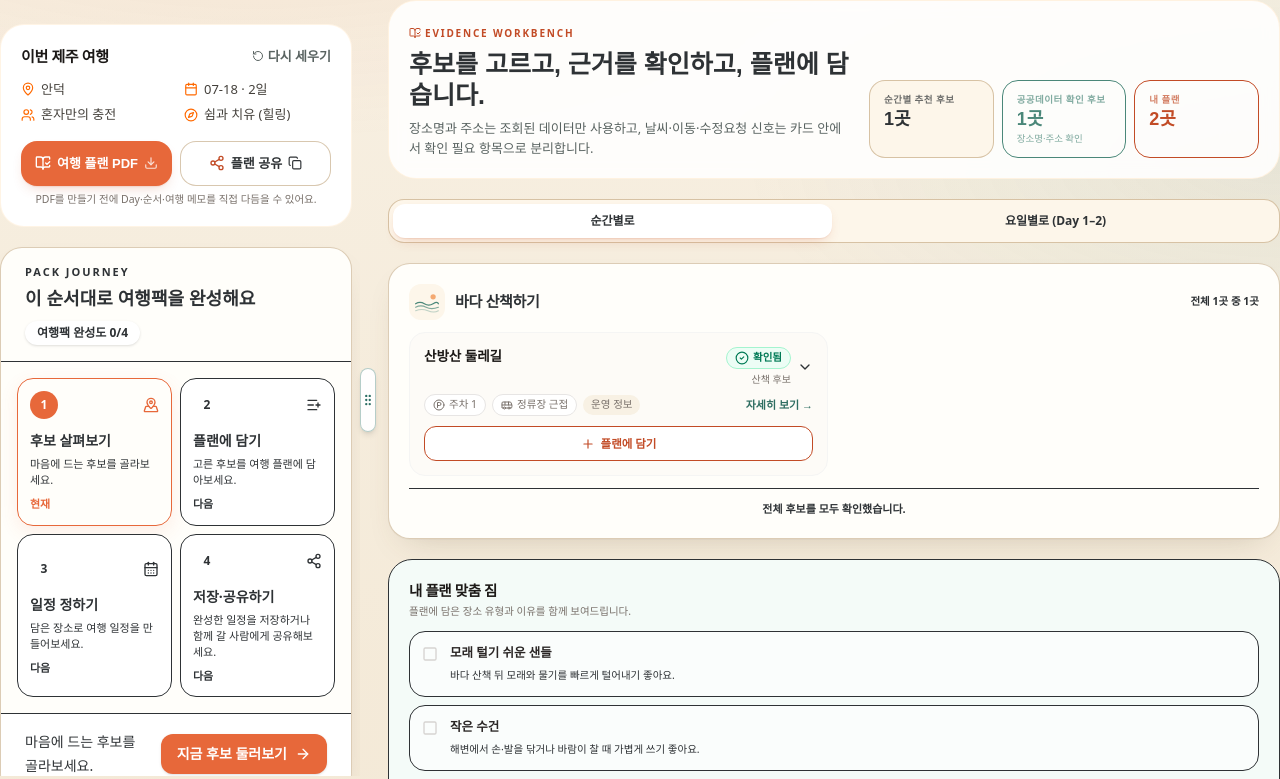
Test case: PackingDashboard pack journey guide › keeps ordinary PDF edits when the editor closes and opens again
The width and height of the screenshot is (1280, 779).
Click the button "여행 플랜 PDF".
click(96, 163)  # box x1=21 y1=140 x2=172 y2=186
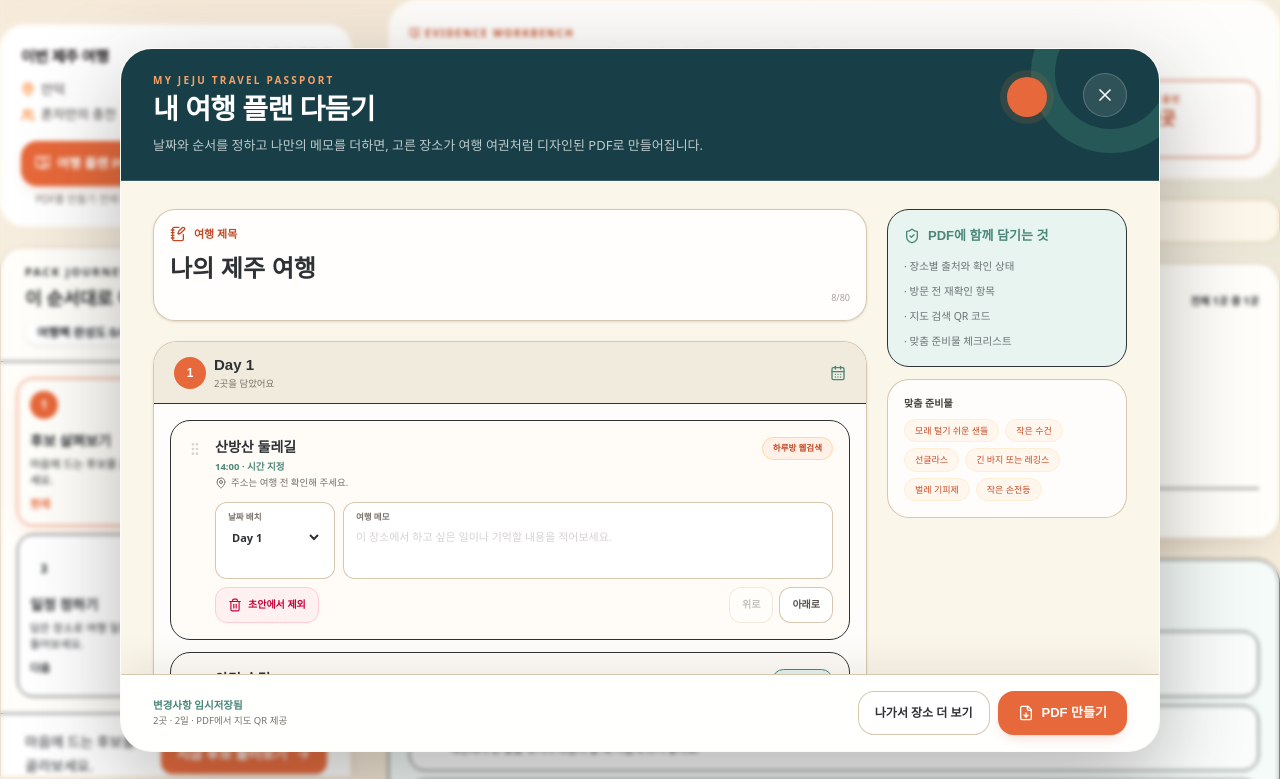
Type "노을 전에 도착" into the text box named "산방산 둘레길 여행 메모".
click(588, 546); type("노을 전에 도착")  # box x1=356 y1=528 x2=820 y2=564
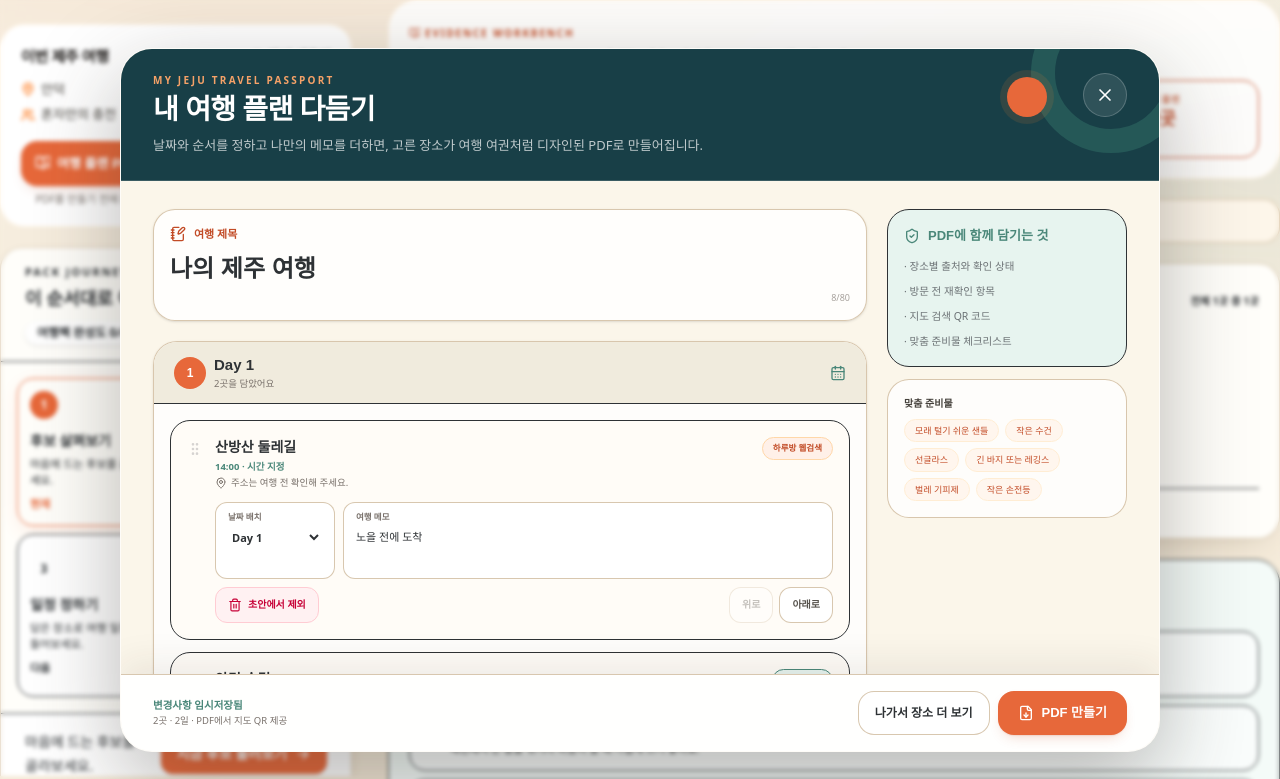
Click the button "나가서 장소 더 보기".
click(924, 713)  # box x1=858 y1=691 x2=990 y2=735
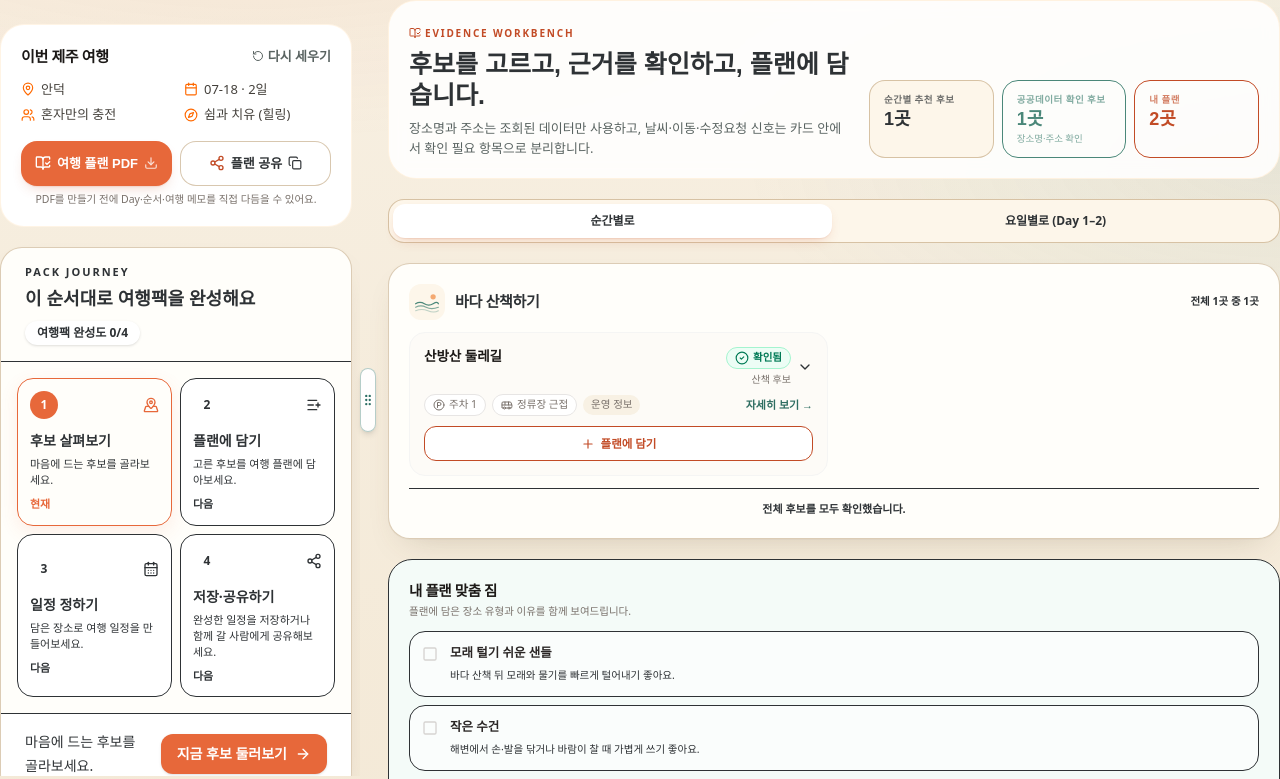
Click the button "여행 플랜 PDF".
click(96, 163)  # box x1=21 y1=140 x2=172 y2=186
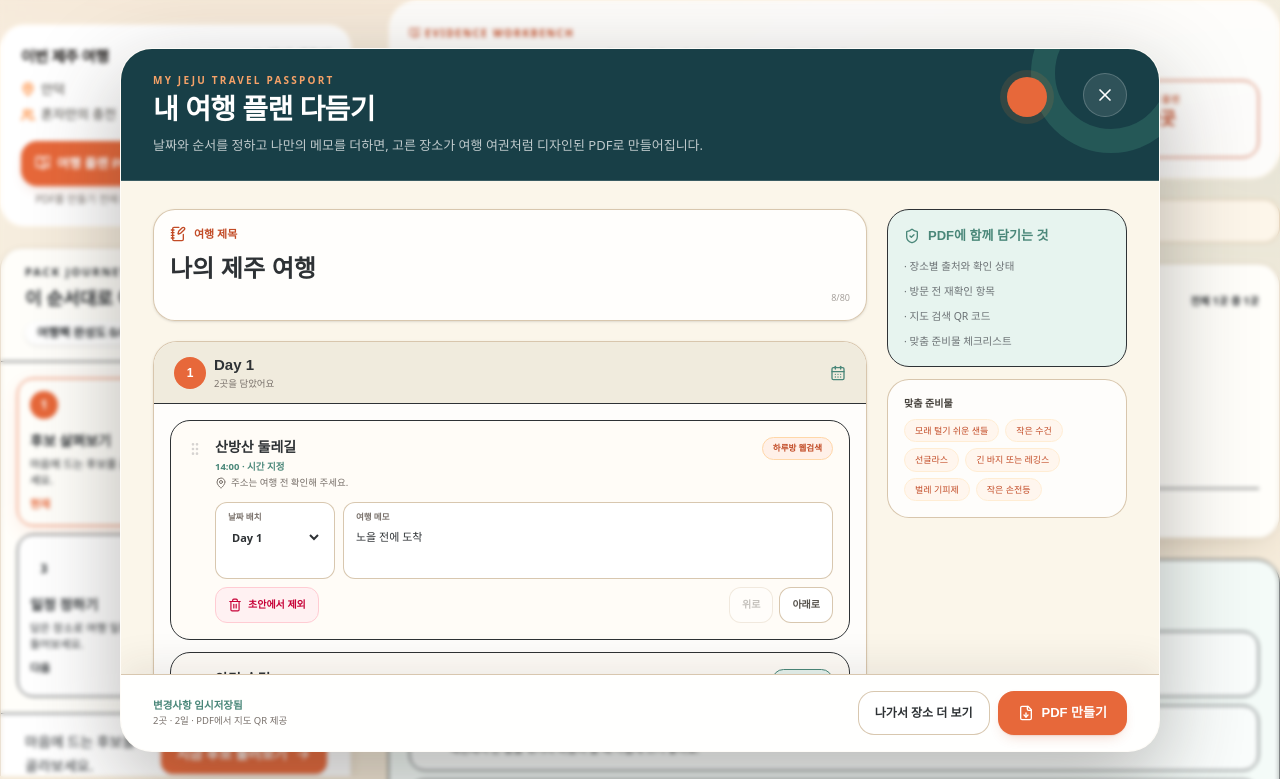
Check: the text box showing "노을 전에 도착" is shown, box x1=356 y1=528 x2=820 y2=564
